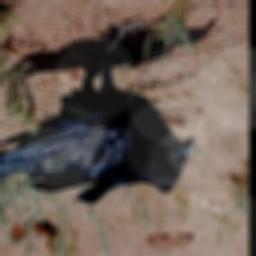Crow: (0, 14, 195, 206)
